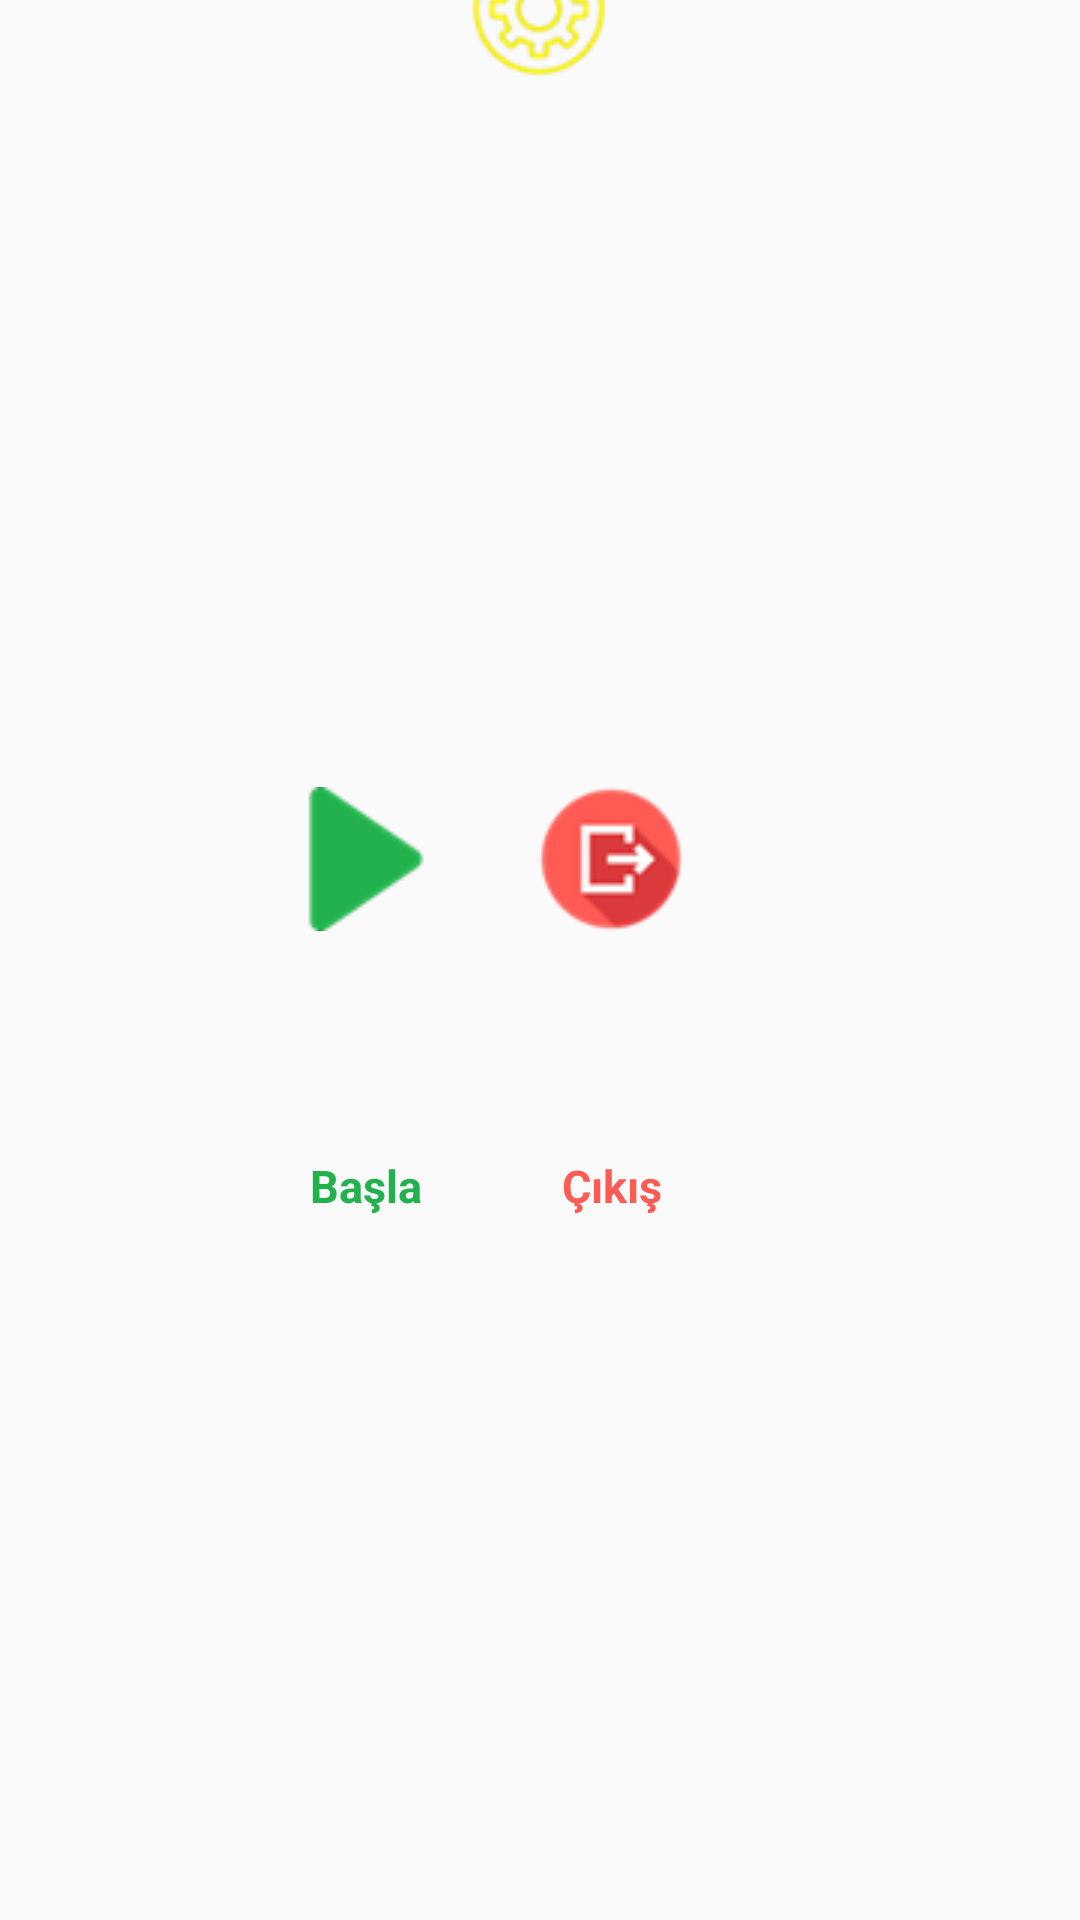

Locate icon controls on the screen. Image size 1080 x 1920, boxes as bbox(x1, y1, x2, y2).
exit: bbox(541, 789, 681, 929)
play: bbox(308, 787, 424, 931)
